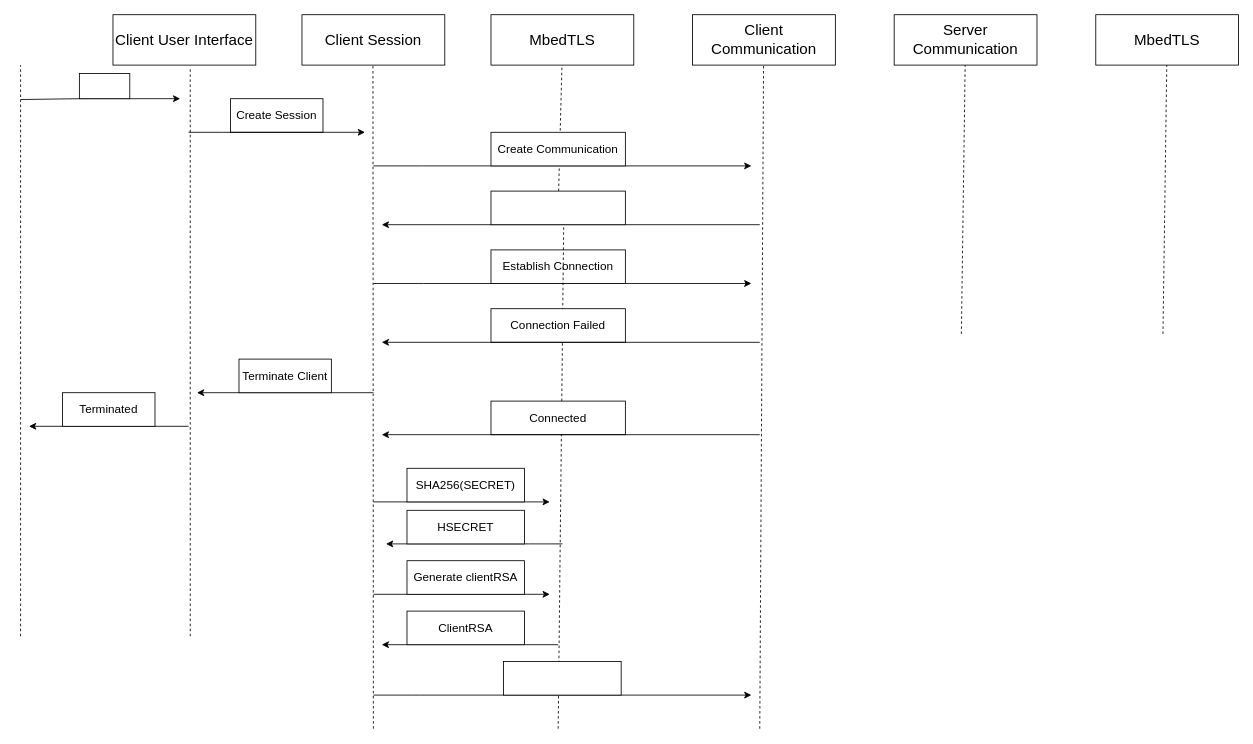
This 1253x744 diagram has some shape labels left out. The box of each missing label's shape, as (x1, y1, x2, y2) in pixels:
Communication Created: (490, 190, 625, 225)
Start: (79, 73, 130, 99)
